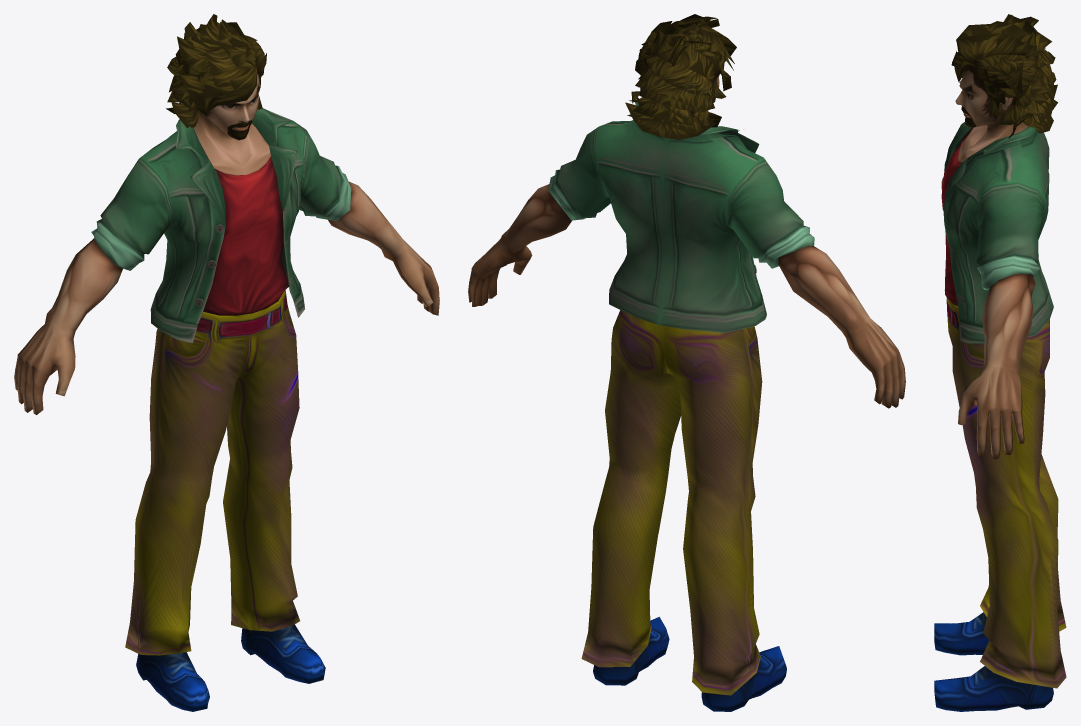
The model's file is showcaseCuteRunnerHero.6baab9af.glb.
The picture shows the model from 3 angles, left to right: view 1: azimuth 30°, elevation 25°; view 2: azimuth 150°, elevation 25°; view 3: azimuth 270°, elevation 25°; orthographic projection. The views are drawn at different scales.
Visible parts, largest first — view 1: ch4; view 2: ch4; view 3: ch4.
Boxes of the visible parts, <box> form: ch4: <box>14,14,439,711</box>; ch4: <box>468,14,905,711</box>; ch4: <box>934,14,1066,711</box>.
Size of the model in its own units: 53.72 by 81.36 by 14.91.
1 material, 1 textured.
